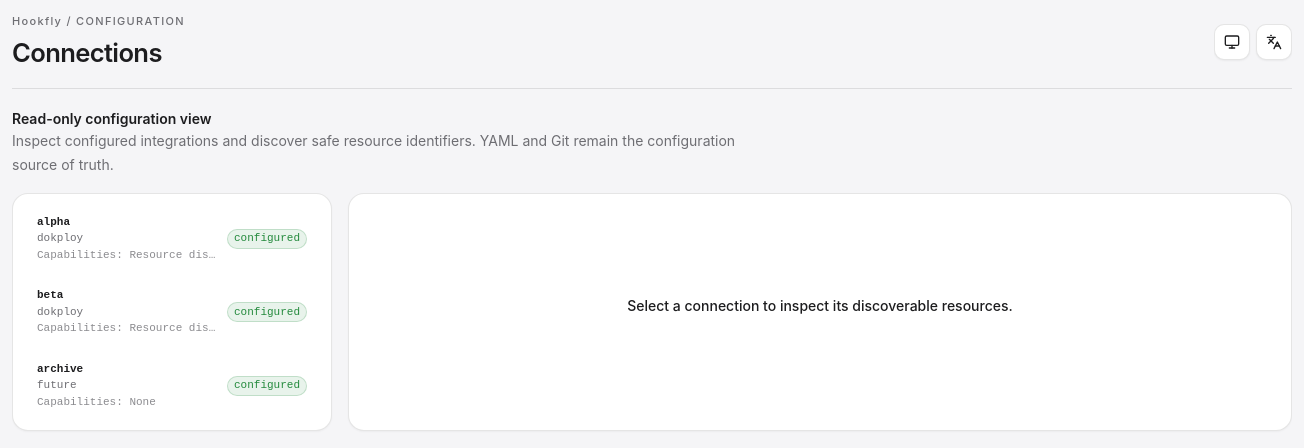
Test case: cancels stale discovery when switching connections and supports resource retry
Click the button "alpha dokploy Capabilities: Resource discovery configured".
click(54, 222)  # box [25,206,319,271]
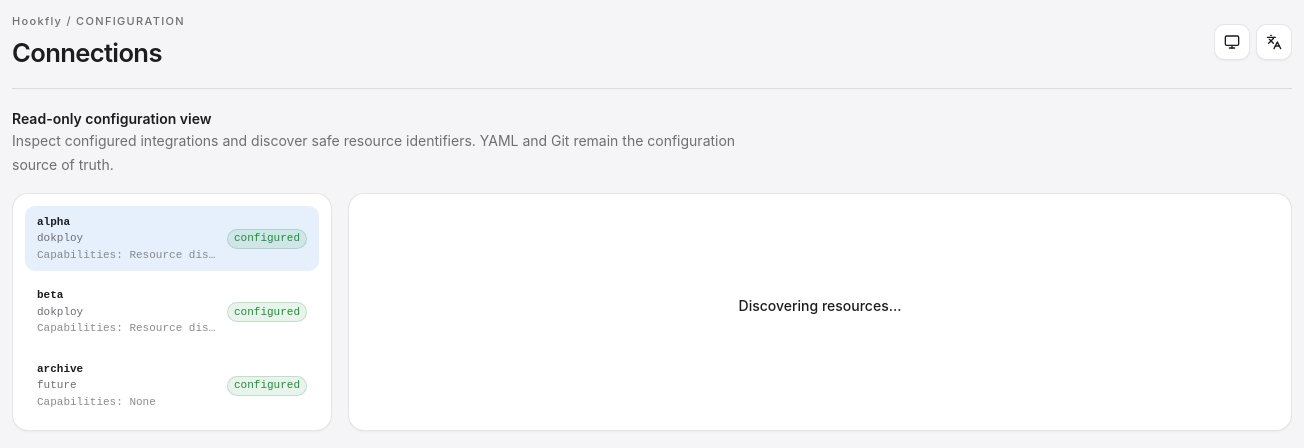
expect the text "Discovering resources…" is shown: met, box [739,296,902,316]
Click the button "beta dokploy Capabilities: Resource discovery configured".
click(60, 312)  # box [25,279,319,345]
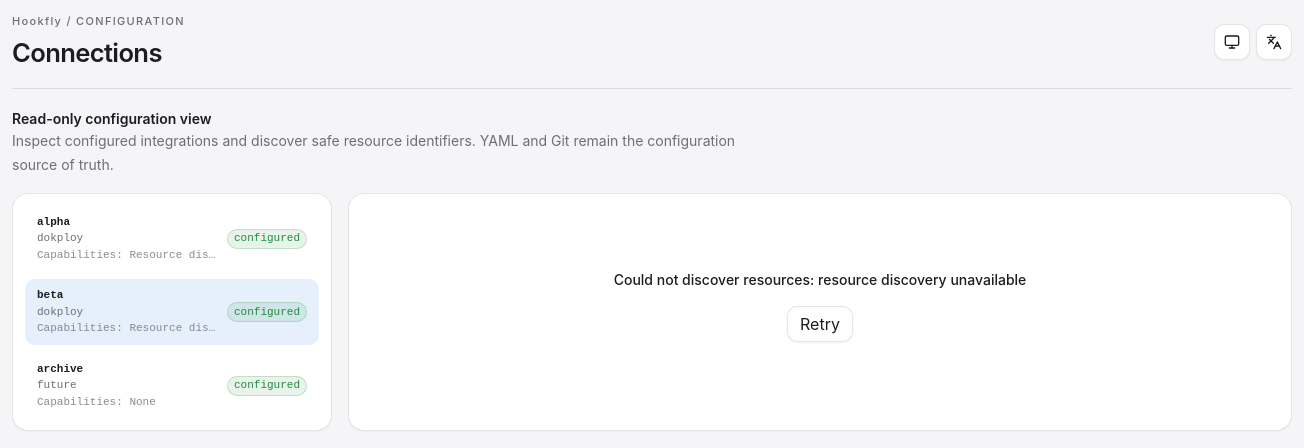
expect the text "Could not discover resources: resource discovery unavailable" is shown: met, box [614,270,1026,290]
Click the button "Retry".
click(820, 324)  # box [787,306,853,342]
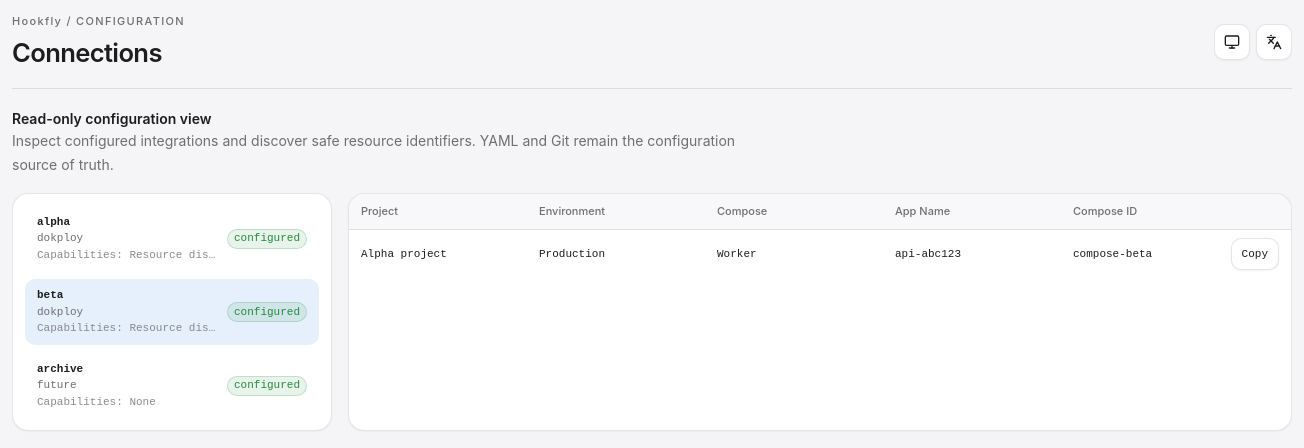
expect the text "compose-beta" is shown: met, box [1073,248,1152,260]
